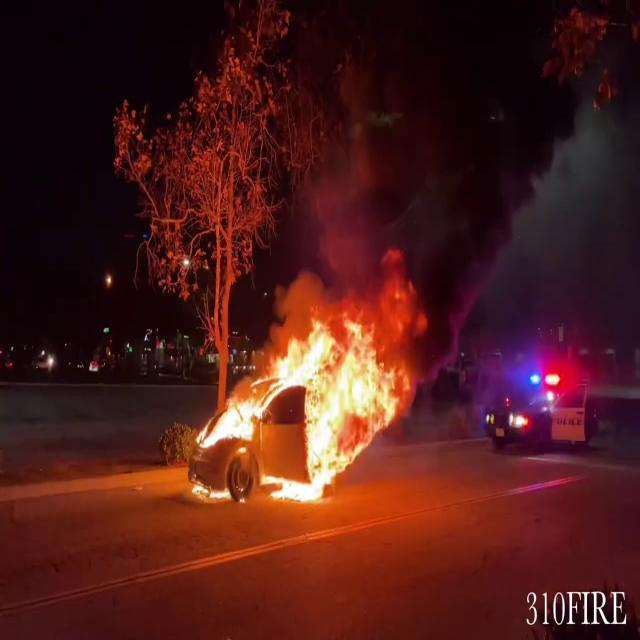Fire: (196, 300, 442, 492)
Smoke: (284, 0, 512, 341)
